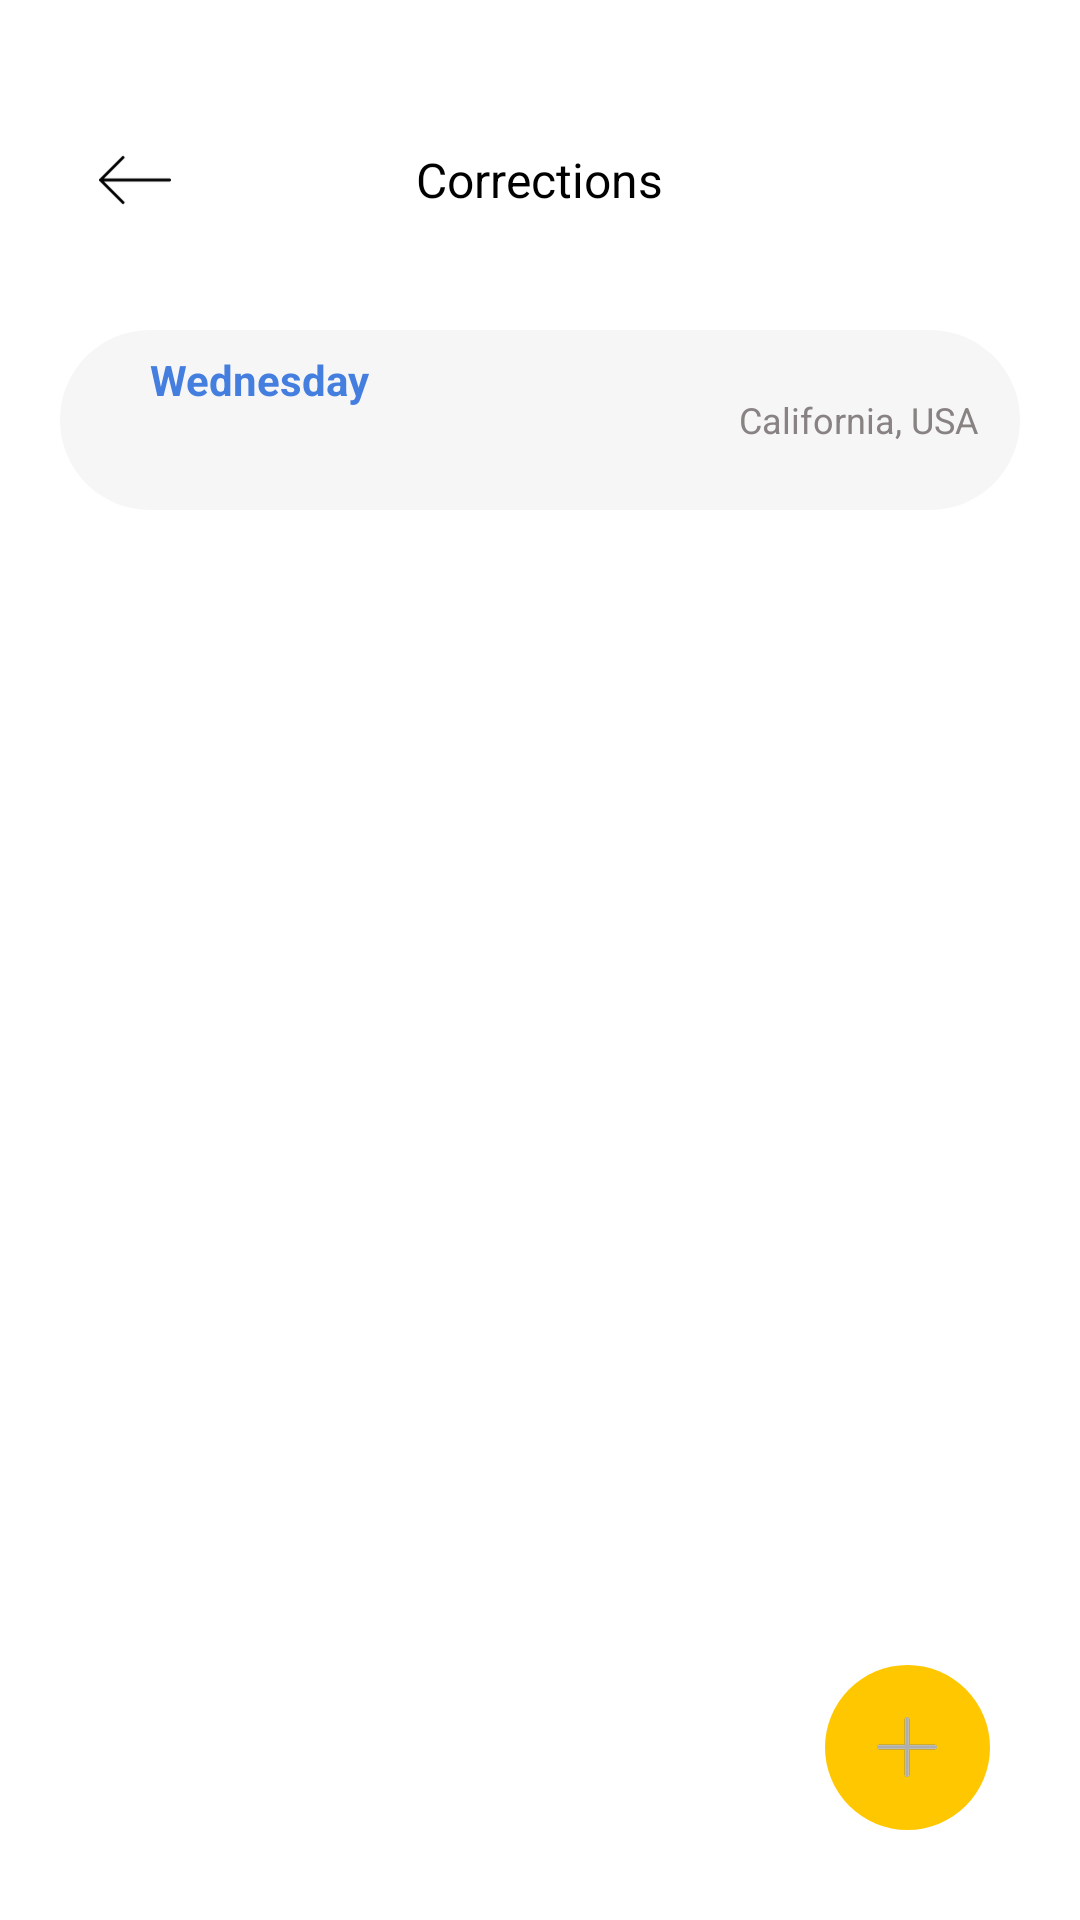

Screen size 1080 × 1920. Icon name, then its center in pixels as [x,y]:
add: [907,1747]
backarrow: [135,180]
